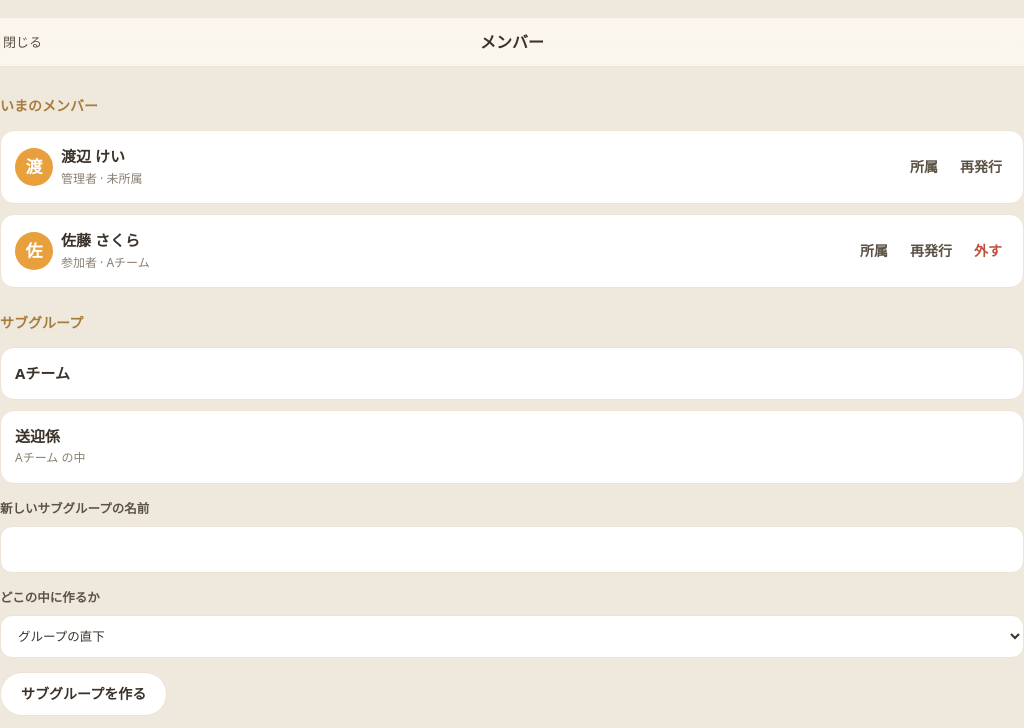
it: MembersView › says plainly what removal does and does not do
What coordinates should you click on to do the following:
click the button with test id "remove"
I would click on:
 (988, 251)
Its box is [967,229,1009,273].
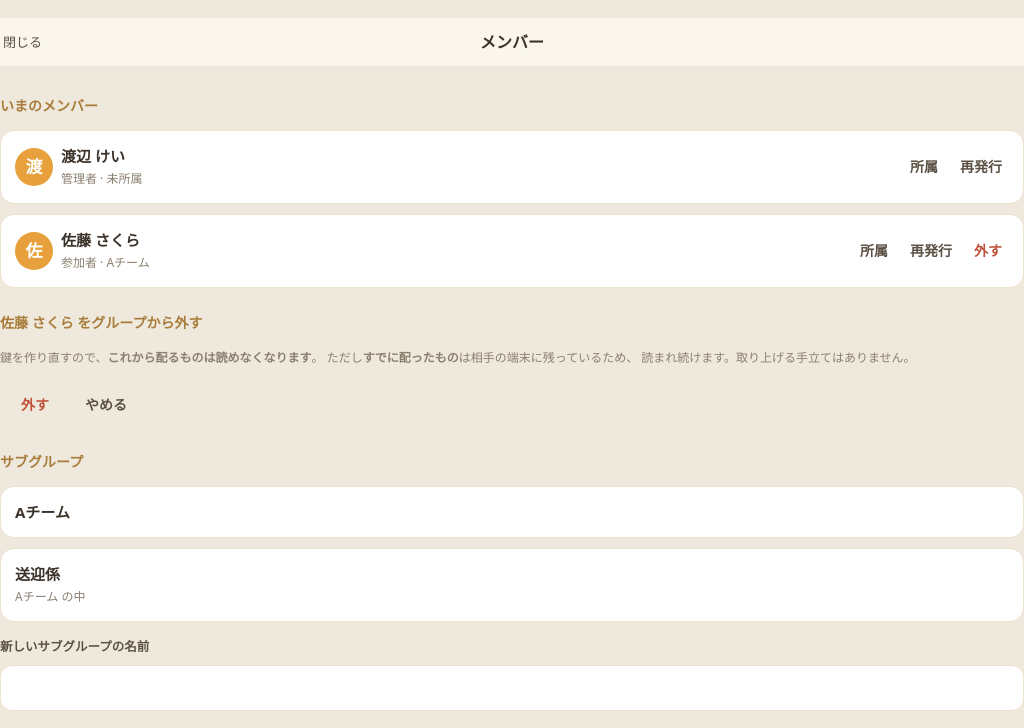
Now the text "これから配るもの" is shown, box [108,349,312,366]
Now the text "すでに配ったもの" is shown, box [363,349,459,366]
